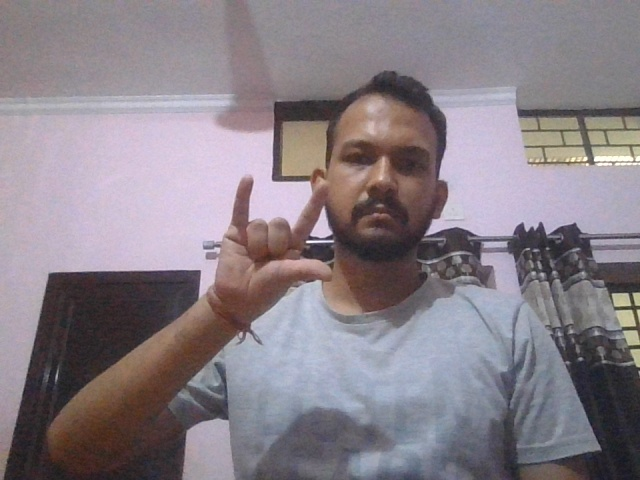iloveyou: (214, 175, 333, 315)
